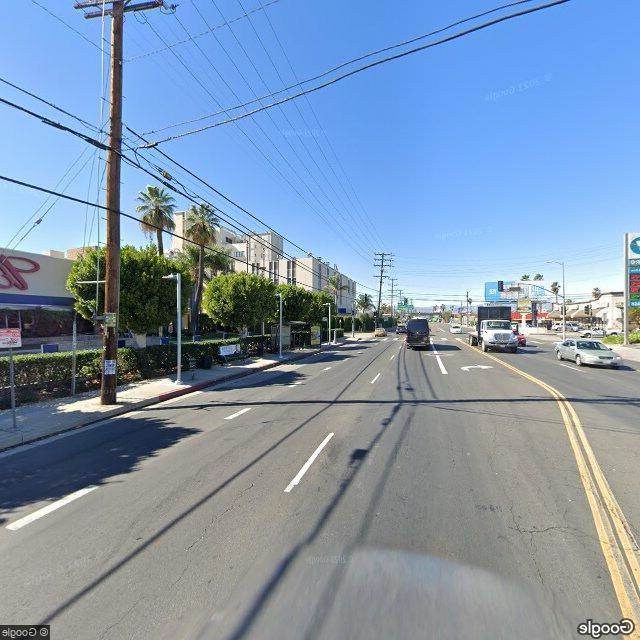crack: (188, 448, 286, 548), (507, 516, 640, 551)
